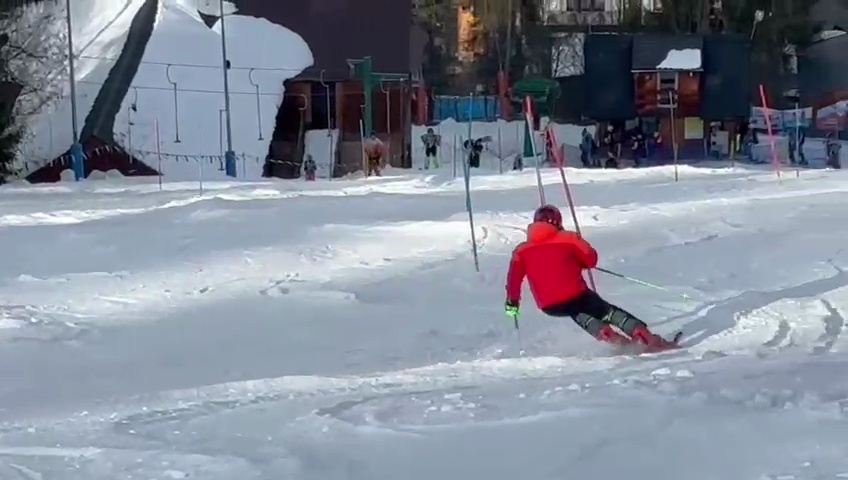gate: (544, 119, 592, 242), (60, 0, 84, 191), (456, 136, 482, 280), (521, 101, 550, 207), (759, 82, 784, 185), (663, 87, 686, 191), (834, 396, 846, 416)
